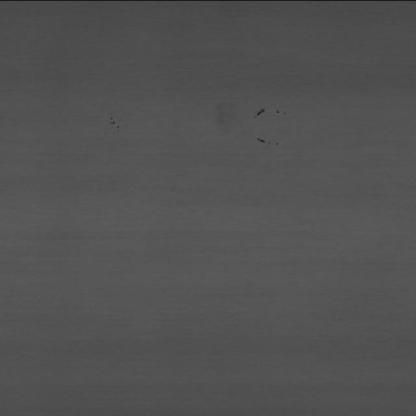inclusion: (91, 107, 128, 143), (236, 102, 278, 117), (242, 134, 290, 146)
